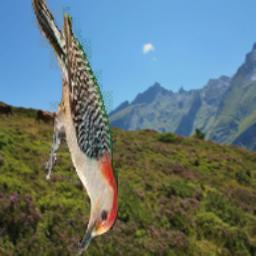Woodpecker: (31, 0, 118, 256)
